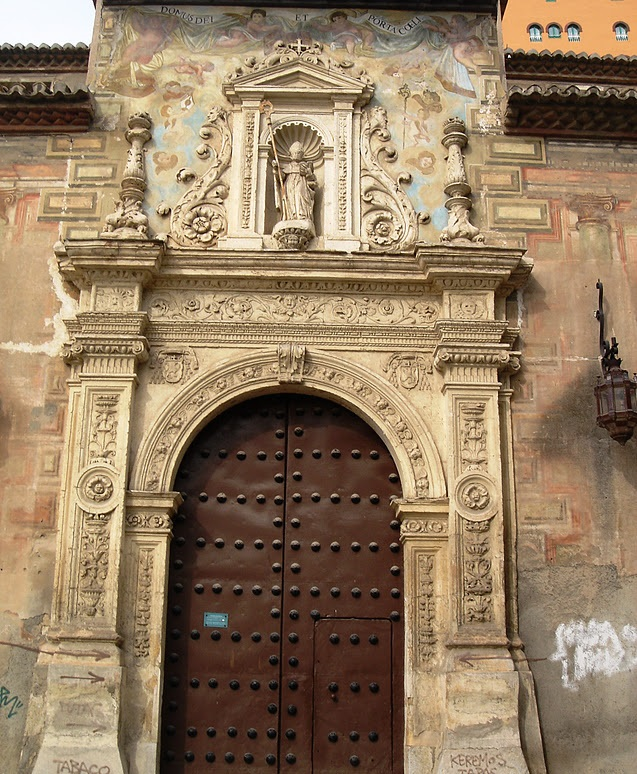arco-medio-punto: (153, 362, 420, 558)
fronton: (226, 53, 372, 106)
